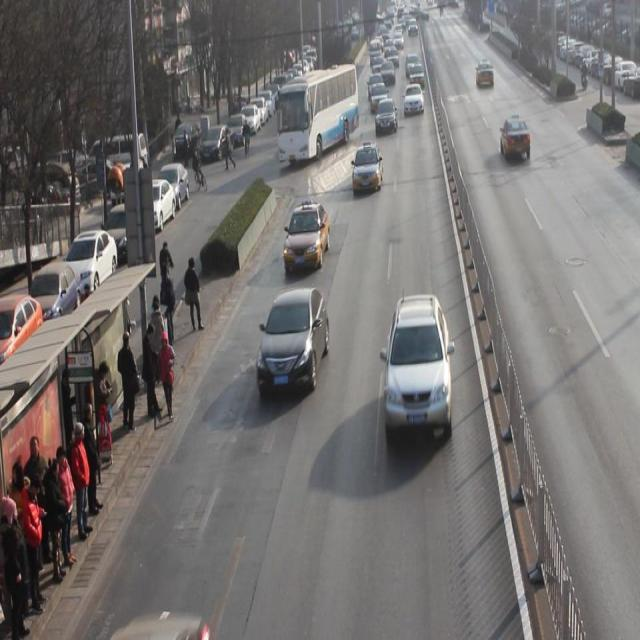car: (384, 296, 452, 439), (258, 291, 331, 395), (284, 203, 330, 273), (353, 145, 384, 193), (500, 119, 532, 164), (375, 98, 399, 136), (404, 82, 425, 116), (369, 84, 390, 115), (475, 60, 496, 89)
van: (278, 65, 359, 166)
